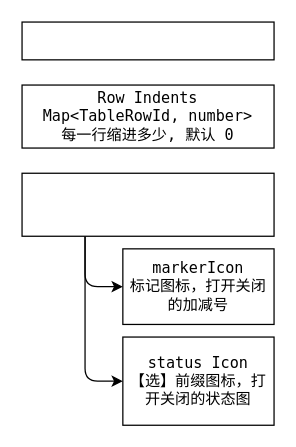
This 296x447 diagram has some shape labels left out. Here are the shapes that lost their labels. From the top down, the box of each, then its label:
(21, 21, 274, 60): List Data
(21, 172, 274, 236): Row Prefix Icons Map<TableRowId, IconInput> 行前缀图标
